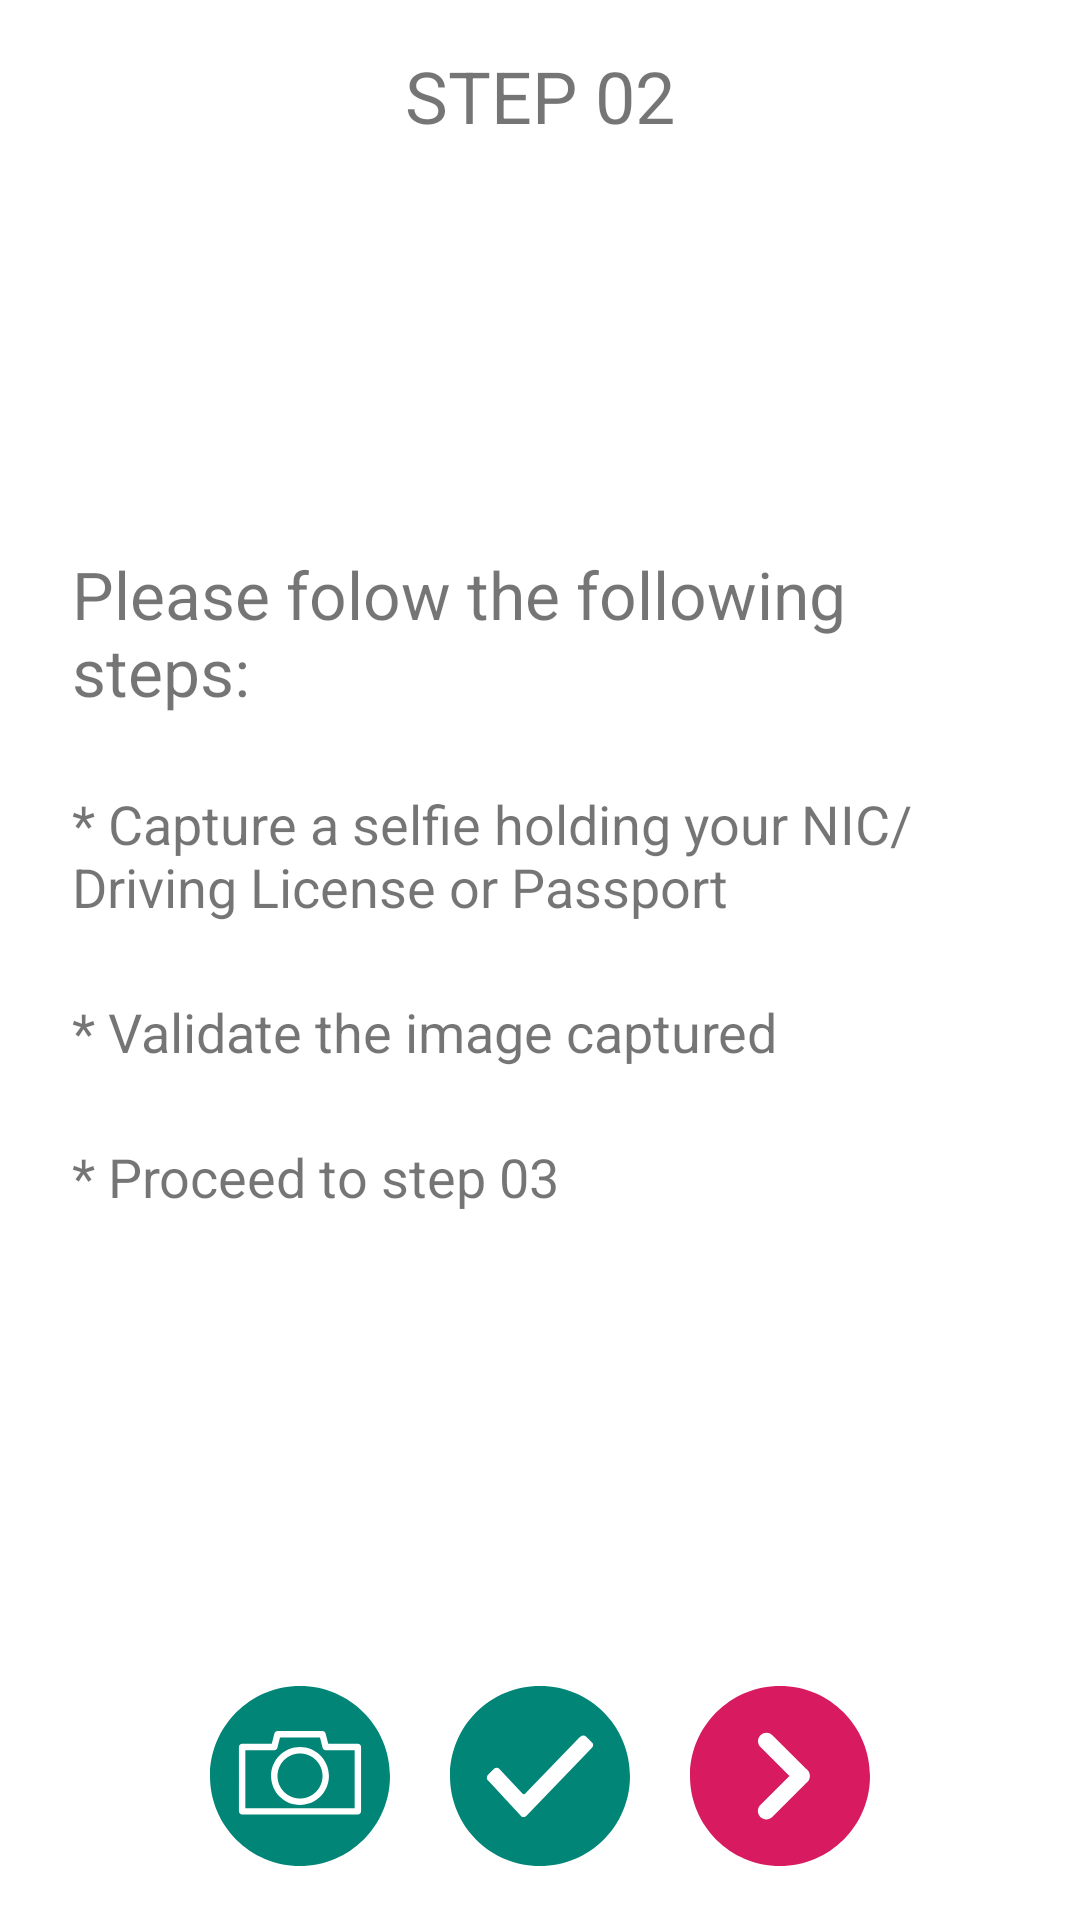

Named icons in this screenshot (1080px×1920px) and their centers, [x,y]:
camera: [300,1776]
checked: [540,1776]
next: [780,1776]
